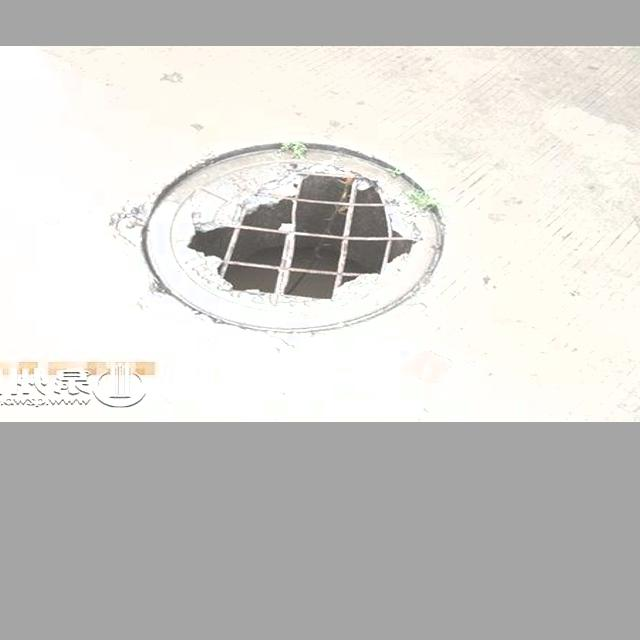broke: (118, 134, 462, 339)
